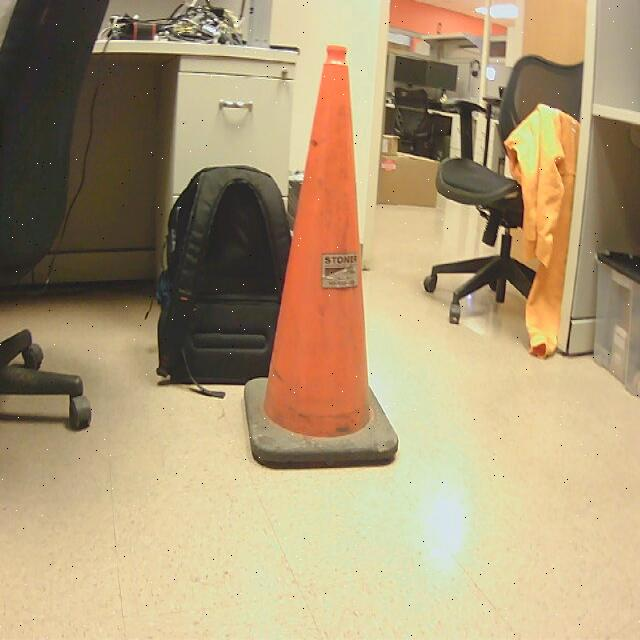traffic cone: (245, 46, 400, 470)
